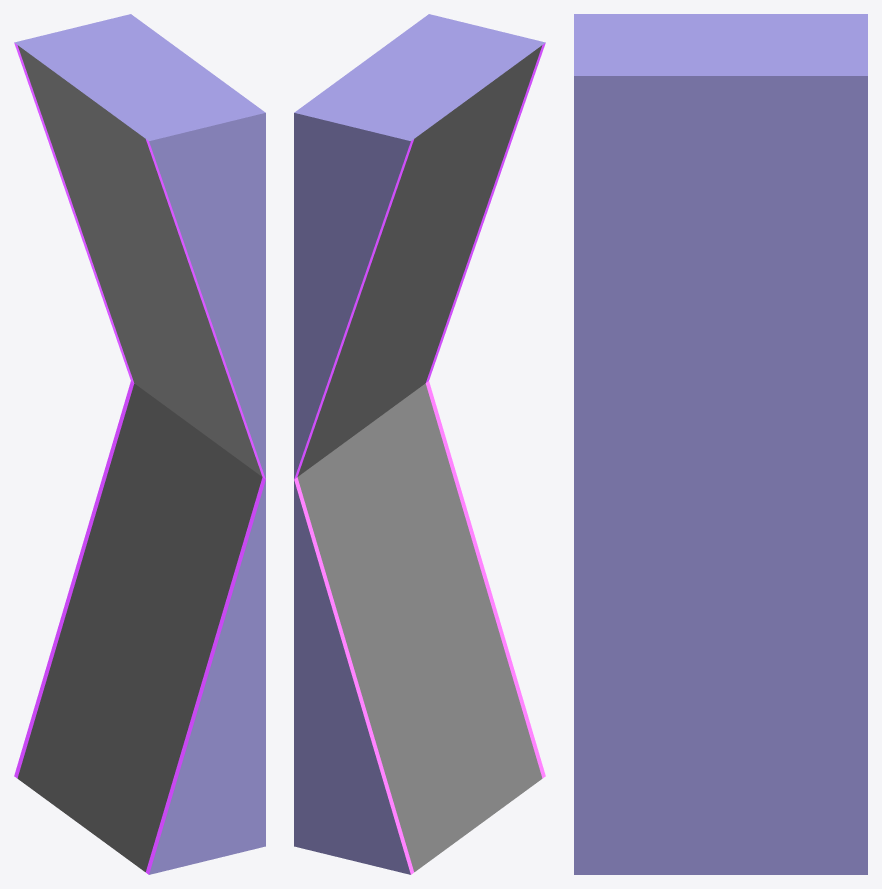
The model's file is Tunnel.FBX.
The picture shows the model from 3 angles, left to right: view 1: azimuth 30°, elevation 25°; view 2: azimuth 150°, elevation 25°; view 3: azimuth 270°, elevation 25°; orthographic projection. The views are drawn at different scales.
Parts seen in each view (by area): view 1: Tunnel; view 2: Tunnel; view 3: Tunnel.
Boxes of the visible parts, box(x1,y1,x2,y2) form: Tunnel: box(14, 14, 265, 874); Tunnel: box(294, 14, 545, 874); Tunnel: box(574, 14, 867, 874).
Size of the model in its own units: 50 by 100 by 300.
